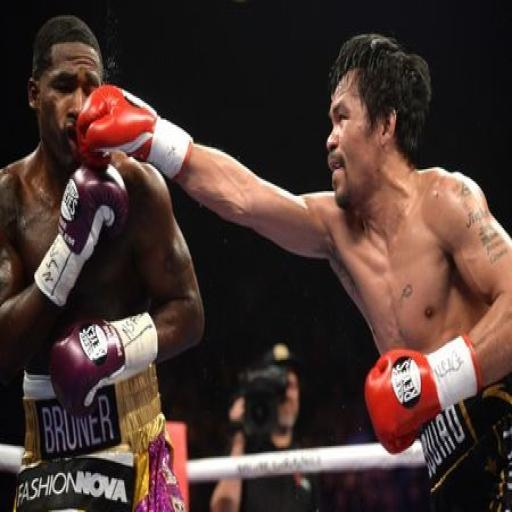boxing: (74, 29, 511, 510)
